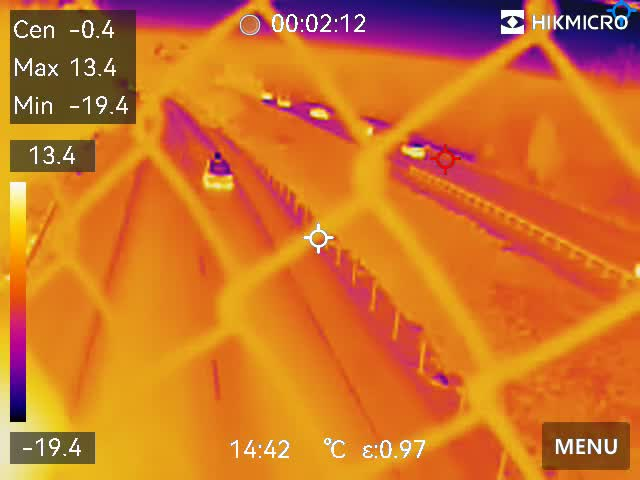vehicle: (202, 152, 237, 198), (304, 103, 338, 124), (400, 139, 426, 161), (256, 88, 274, 105), (276, 97, 293, 110)
